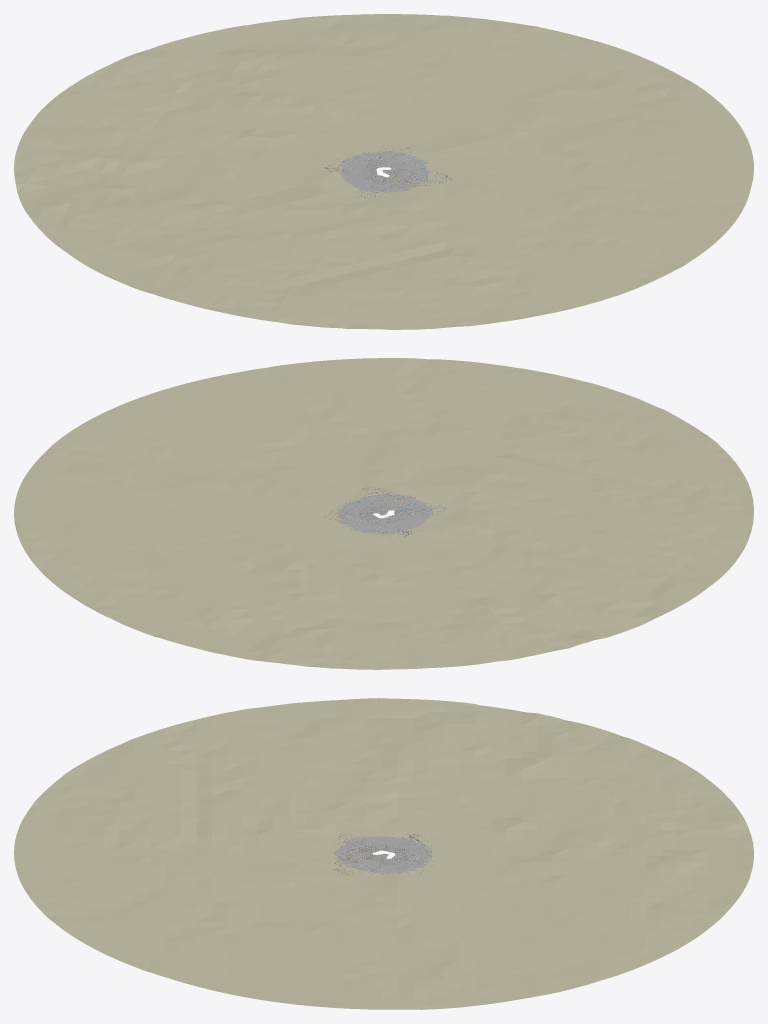
Rendered from backdrop.glb.
3 renders of one model, top to bottom at view 1: azimuth 30°, elevation 25°; view 2: azimuth 150°, elevation 25°; view 3: azimuth 270°, elevation 25°, orthographic.
Visible parts, largest first — view 1: backdrop_horizon_land, backdrop_terrain_paved, backdrop_buildings_building_local_wall_a; view 2: backdrop_horizon_land, backdrop_terrain_paved, backdrop_buildings_building_local_wall_a; view 3: backdrop_horizon_land, backdrop_terrain_paved, backdrop_buildings_building_local_wall_a.
Boxes of the visible parts, left/top/right/bottom form: backdrop_horizon_land: left=14, top=14, right=753, bottom=329; backdrop_terrain_paved: left=338, top=151, right=429, bottom=193; backdrop_buildings_building_local_wall_a: left=318, top=147, right=452, bottom=199; backdrop_horizon_land: left=14, top=358, right=753, bottom=669; backdrop_terrain_paved: left=335, top=494, right=433, bottom=534; backdrop_buildings_building_local_wall_a: left=324, top=485, right=448, bottom=542; backdrop_horizon_land: left=14, top=698, right=753, bottom=1009; backdrop_terrain_paved: left=335, top=836, right=431, bottom=874; backdrop_buildings_building_local_wall_a: left=334, top=833, right=434, bottom=875.
Bounding box in the file's own units: 71347 × 254 × 71689.
